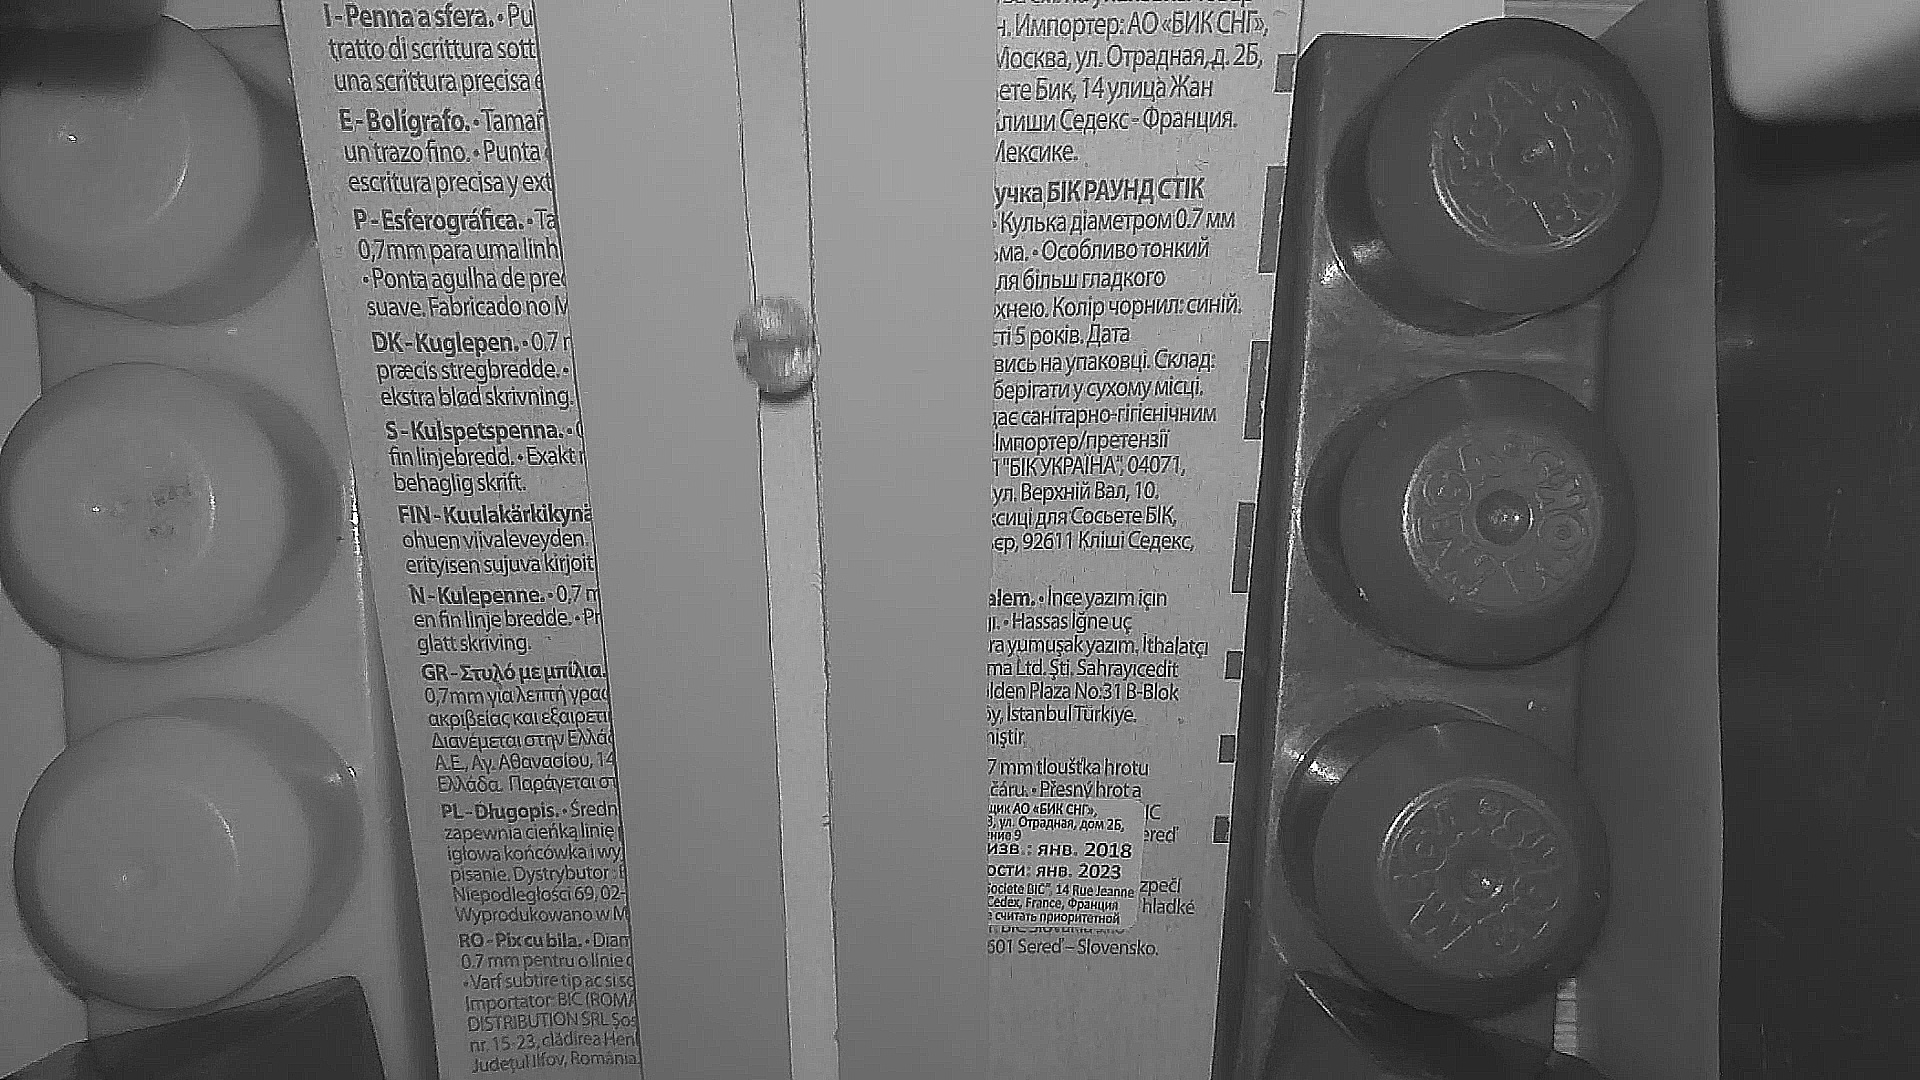i: (737, 299, 819, 396)
